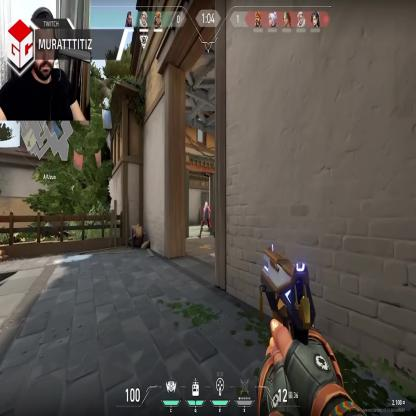enemy: (198, 201, 216, 239)
enemy_head: (205, 201, 208, 207)
